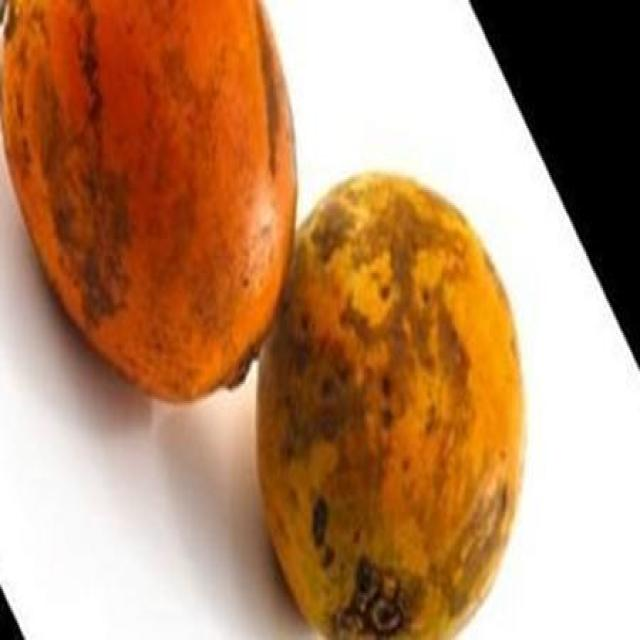good: (255, 173, 528, 638), (1, 0, 299, 407)
